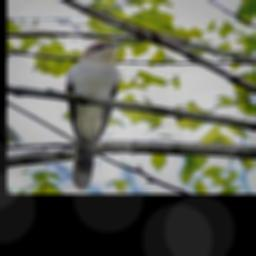Cuckoo: (67, 40, 128, 190)
